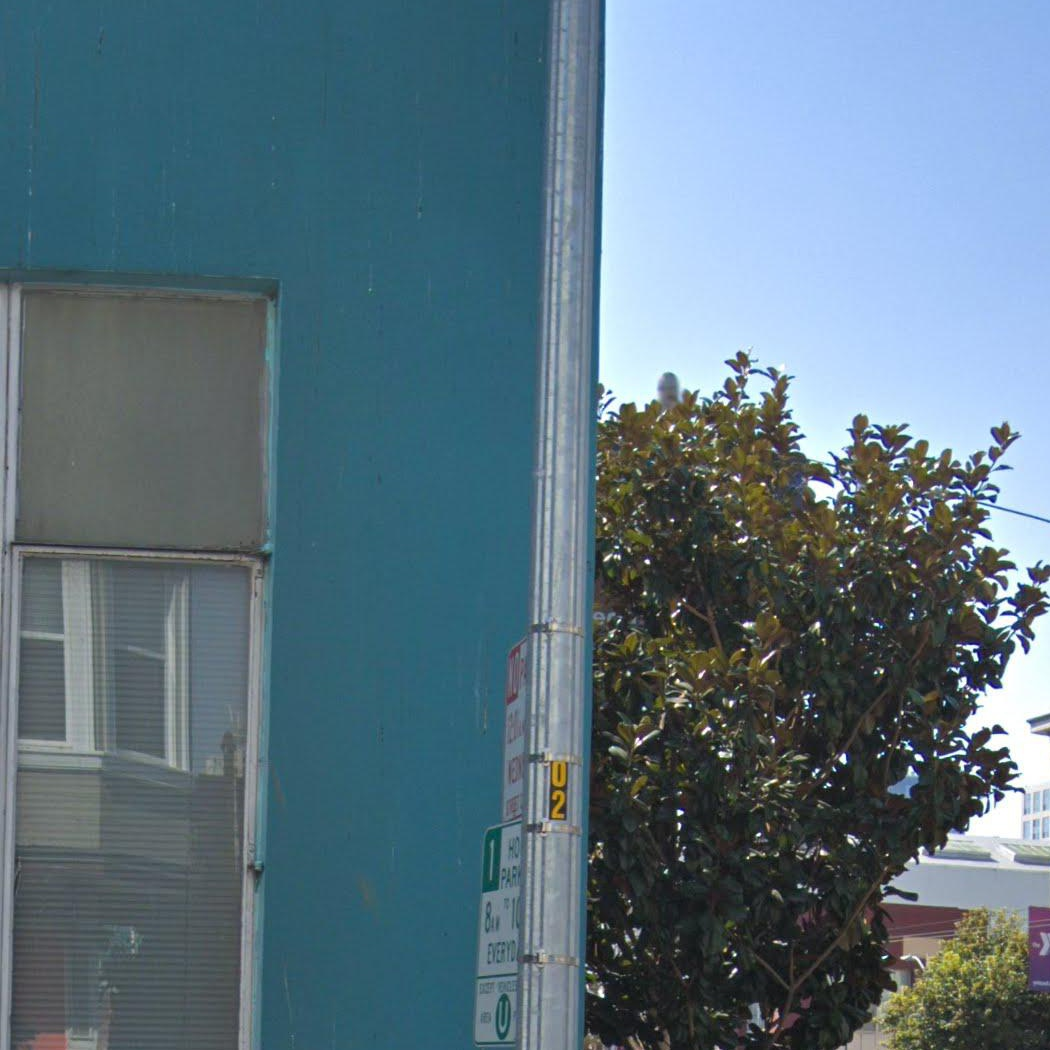1 Hour Parking: (472, 822, 526, 1049)
No Parking: (500, 633, 531, 823)
